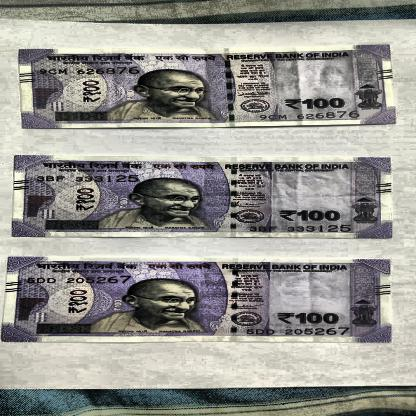Rs100: (276, 208, 345, 223), (276, 311, 342, 325), (277, 98, 355, 109)
